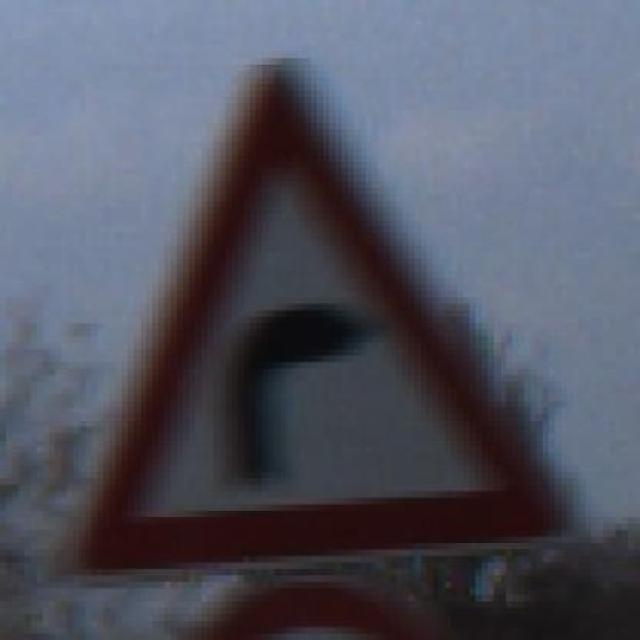Dangerous Rright Curve Ahead: (48, 52, 567, 576)
